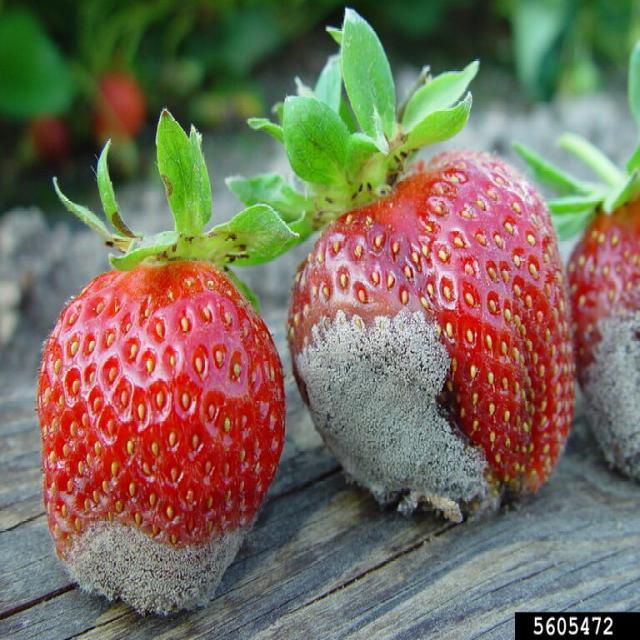Moho gris: (288, 180, 570, 524), (34, 261, 278, 617), (568, 152, 640, 500)
